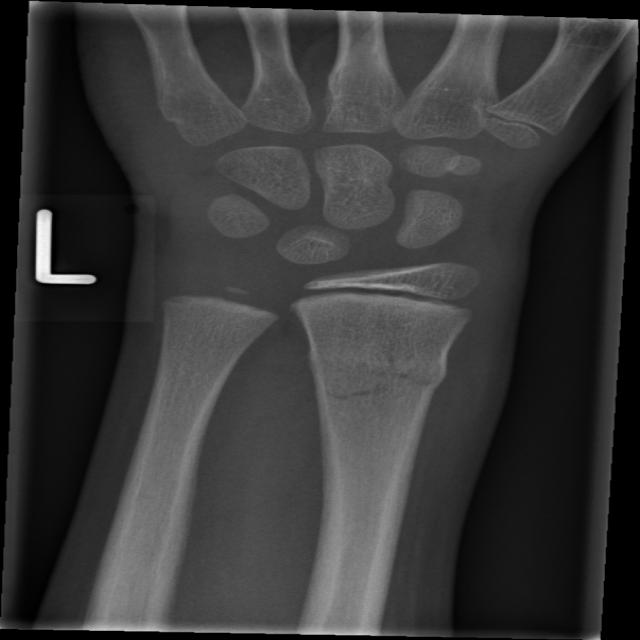radius fracture: (316, 312, 476, 464)
